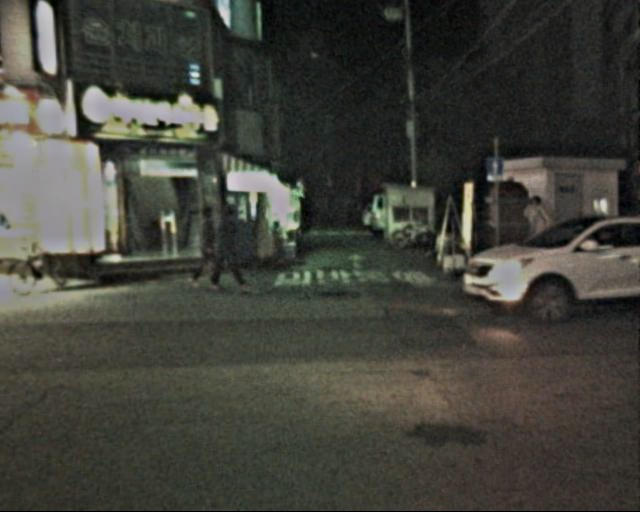person: (203, 203, 249, 293), (183, 204, 224, 288), (518, 195, 554, 281)
